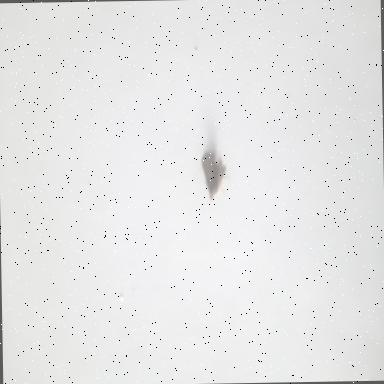pbw: (202, 152, 227, 203)
